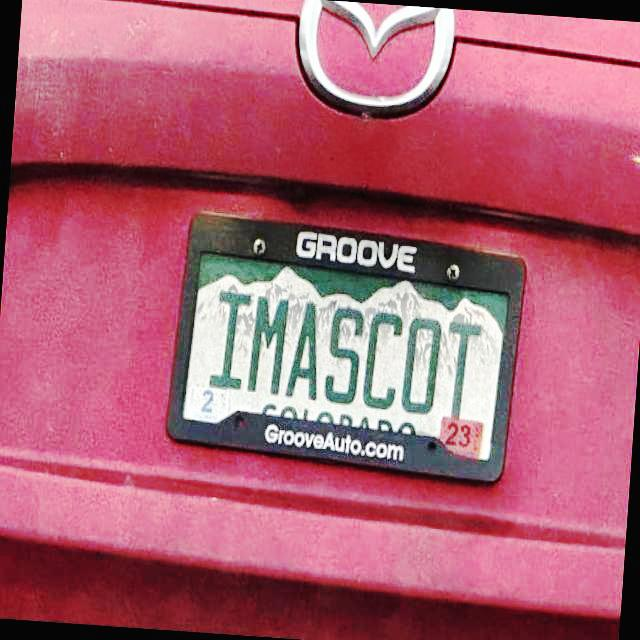license_plate: (166, 211, 529, 486)
